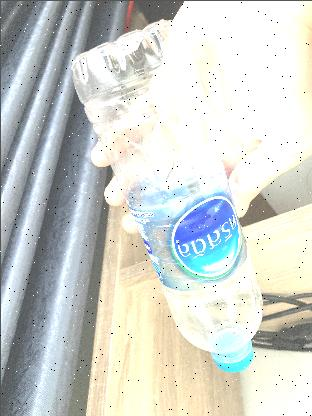Plastic Bottle: (70, 23, 268, 376)
